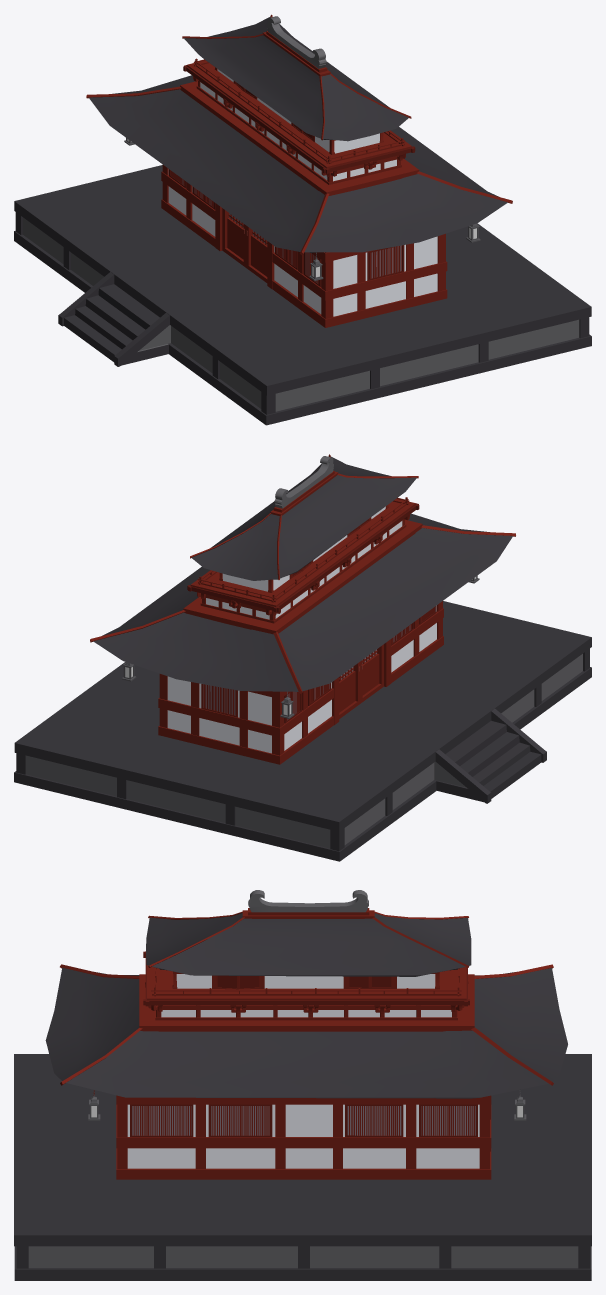
File: houme06.fbx
The picture shows the model from 3 angles, top to bottom: view 1: azimuth 30°, elevation 25°; view 2: azimuth 150°, elevation 25°; view 3: azimuth 270°, elevation 25°; orthographic projection. The views are drawn at different scales.
Parts seen in each view (by area): view 1: foundation_6_1, houme_6, on_the_roof_6_1; view 2: foundation_6_1, houme_6, on_the_roof_6_1; view 3: houme_6, foundation_6_1, on_the_roof_6_1, Lantern_6_1.
Boxes of the visible parts, bbox=[...] form: foundation_6_1: bbox=[14, 165, 591, 425]; houme_6: bbox=[86, 14, 512, 327]; on_the_roof_6_1: bbox=[262, 16, 330, 76]; foundation_6_1: bbox=[14, 601, 591, 861]; houme_6: bbox=[90, 454, 515, 764]; on_the_roof_6_1: bbox=[270, 456, 338, 515]; houme_6: bbox=[45, 911, 567, 1179]; foundation_6_1: bbox=[14, 1054, 591, 1280]; on_the_roof_6_1: bbox=[242, 890, 374, 918]; Lantern_6_1: bbox=[88, 1090, 526, 1120].
Size of the model in its own units: 2386 by 1563 by 2767.
